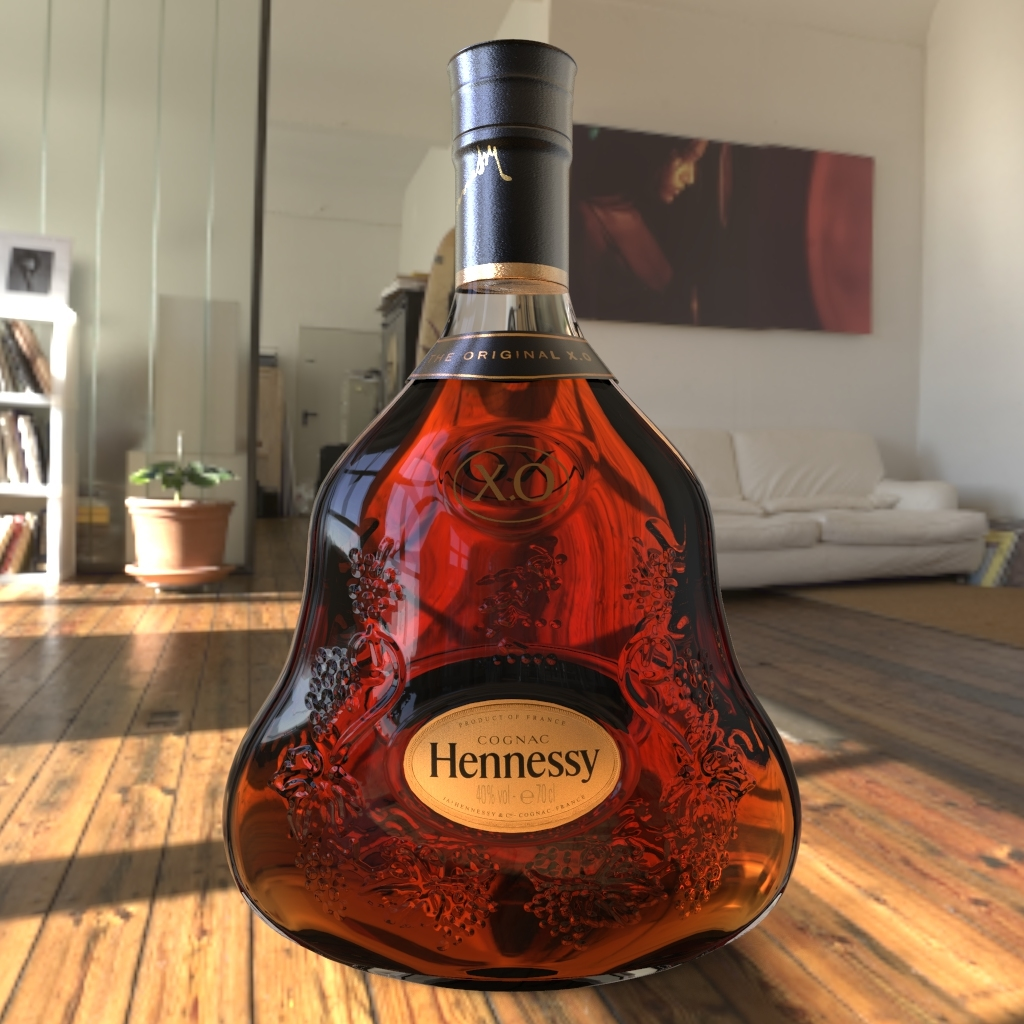Hennessy: (197, 25, 821, 1004)
